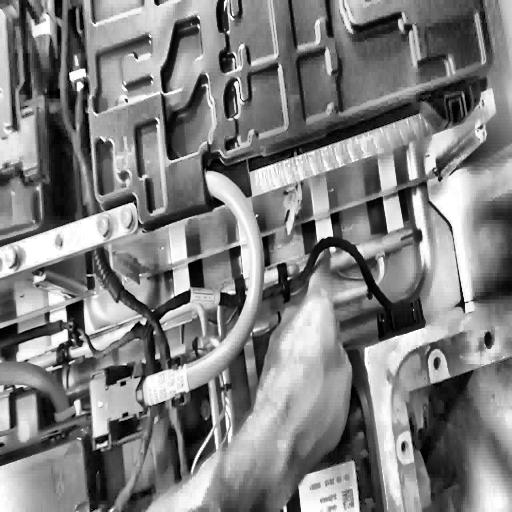high_volt_cable: (88, 157, 275, 449)
low_volt_cable: (54, 6, 428, 512)
nut: (94, 210, 113, 242), (2, 243, 18, 271), (118, 204, 134, 231)
